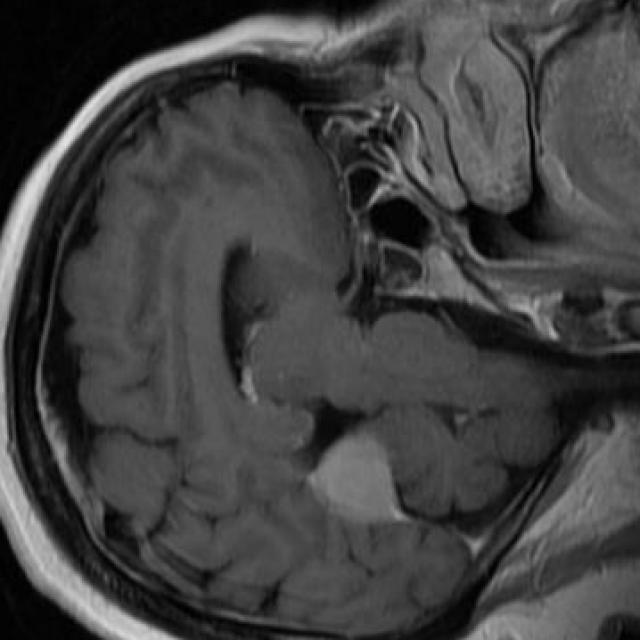meningioma: (307, 435, 405, 521)
